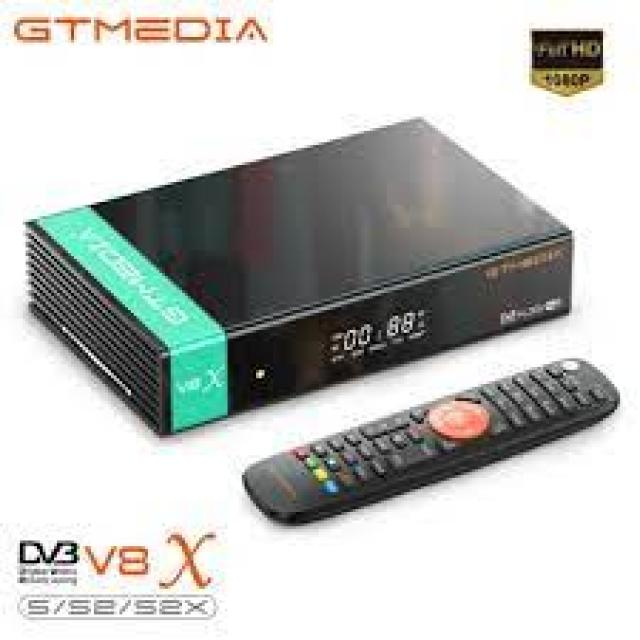remote: (242, 352, 626, 533)
